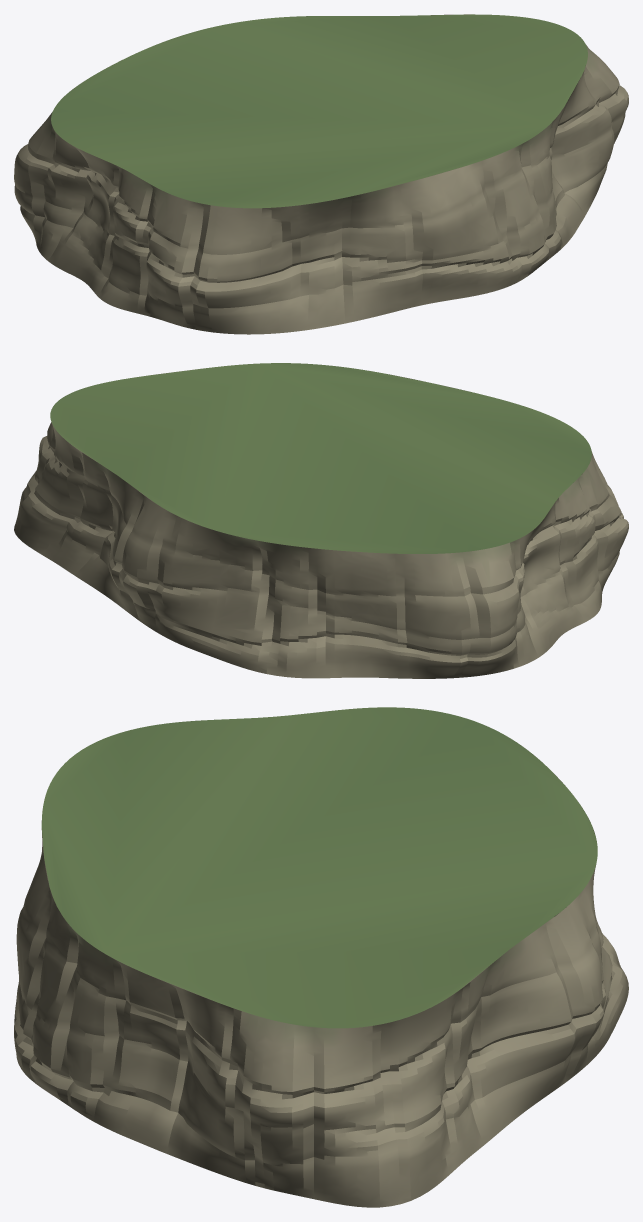
Rendered from coast_atelier_1.glb.
3 renders of one model, top to bottom at view 1: azimuth 30°, elevation 25°; view 2: azimuth 150°, elevation 25°; view 3: azimuth 270°, elevation 25°, orthographic. The views are drawn at different scales.
Visible parts, largest first — view 1: Windmill limestone bank; view 2: Windmill limestone bank; view 3: Windmill limestone bank.
Part boxes in pixels (x1=…): Windmill limestone bank: x1=14, y1=14, x2=628, y2=334; Windmill limestone bank: x1=14, y1=363, x2=628, y2=678; Windmill limestone bank: x1=14, y1=707, x2=628, y2=1207.
Bounding box in the file's own units: 27.93 × 5.99 × 20.79.
